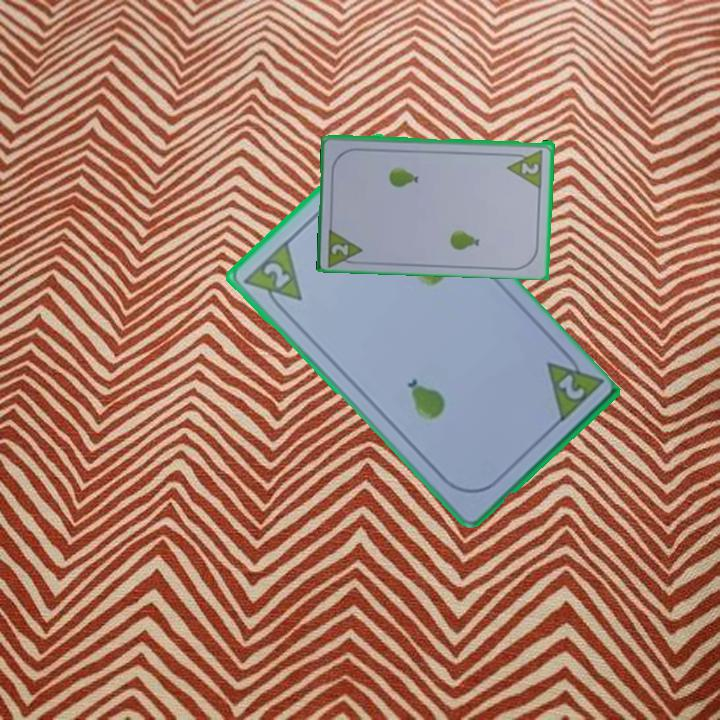2p: (259, 258, 293, 292), (554, 370, 587, 403), (518, 158, 542, 177), (328, 240, 352, 257)
